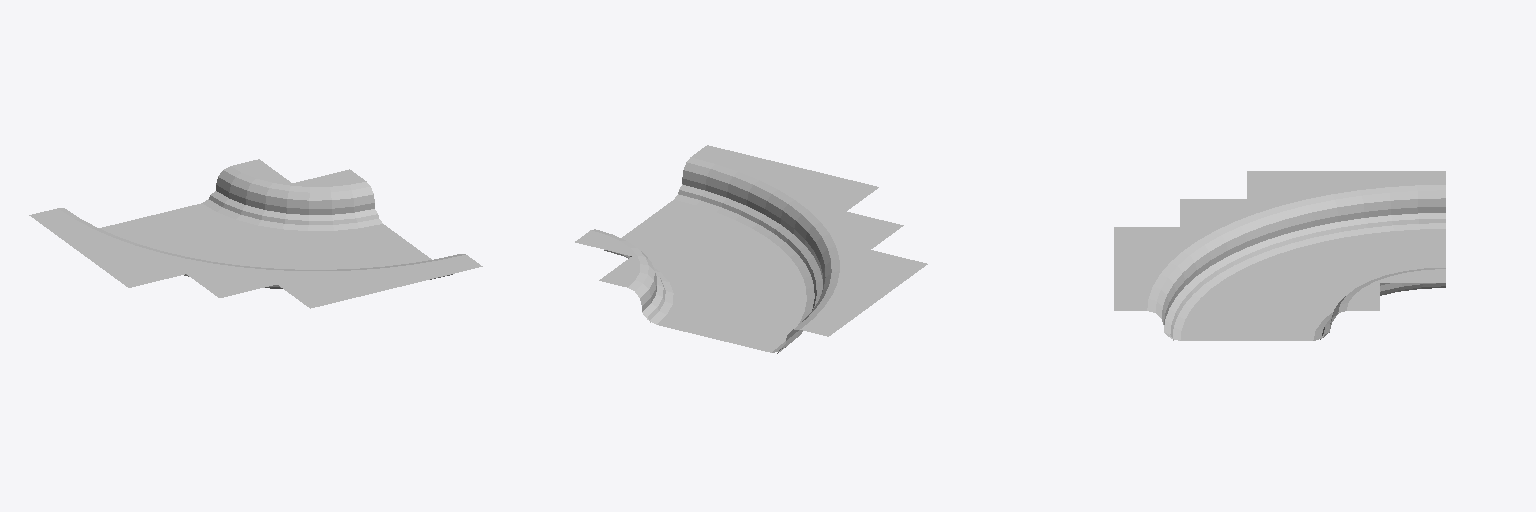
The model's file is Track_Striped_Curve_Double_5x5.obj.
3 renders of one model, left to right at view 1: azimuth 30°, elevation 25°; view 2: azimuth 150°, elevation 25°; view 3: azimuth 270°, elevation 25°, orthographic.
Parts seen in each view (by area): view 1: Grass, Dirt, Raceline_Color_1, Raceline_Color_2; view 2: Grass, Dirt, Raceline_Color_1, Raceline_Color_2; view 3: Grass, Dirt, Raceline_Color_2, Raceline_Color_1.
Part boxes in pixels (bbox=[...]): Grass: bbox=[29, 159, 482, 308]; Dirt: bbox=[99, 199, 431, 287]; Raceline_Color_1: bbox=[184, 199, 452, 288]; Raceline_Color_2: bbox=[209, 191, 356, 288]; Grass: bbox=[575, 145, 927, 346]; Dirt: bbox=[615, 194, 814, 352]; Raceline_Color_1: bbox=[604, 184, 822, 310]; Raceline_Color_2: bbox=[624, 191, 822, 353]; Grass: bbox=[1114, 171, 1445, 328]; Dirt: bbox=[1165, 223, 1445, 340]; Raceline_Color_2: bbox=[1165, 213, 1445, 326]; Raceline_Color_1: bbox=[1164, 214, 1421, 340].
Size of the model in its own units: 5 by 0.5 by 5.